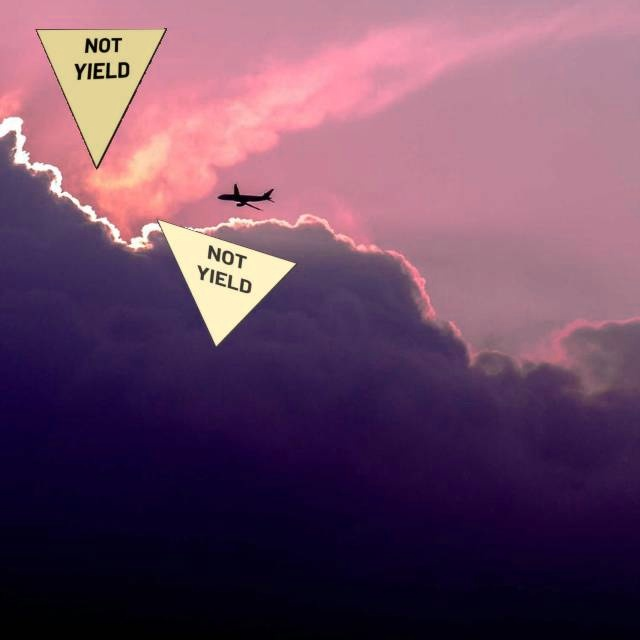NOT_YIELD: (35, 28, 167, 170), (156, 218, 298, 348)
